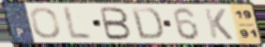6: (172, 6, 202, 42)
B: (98, 6, 133, 41)
D: (129, 7, 165, 42)
K: (202, 7, 235, 41)
L: (62, 6, 93, 41)
O: (29, 6, 63, 40)
